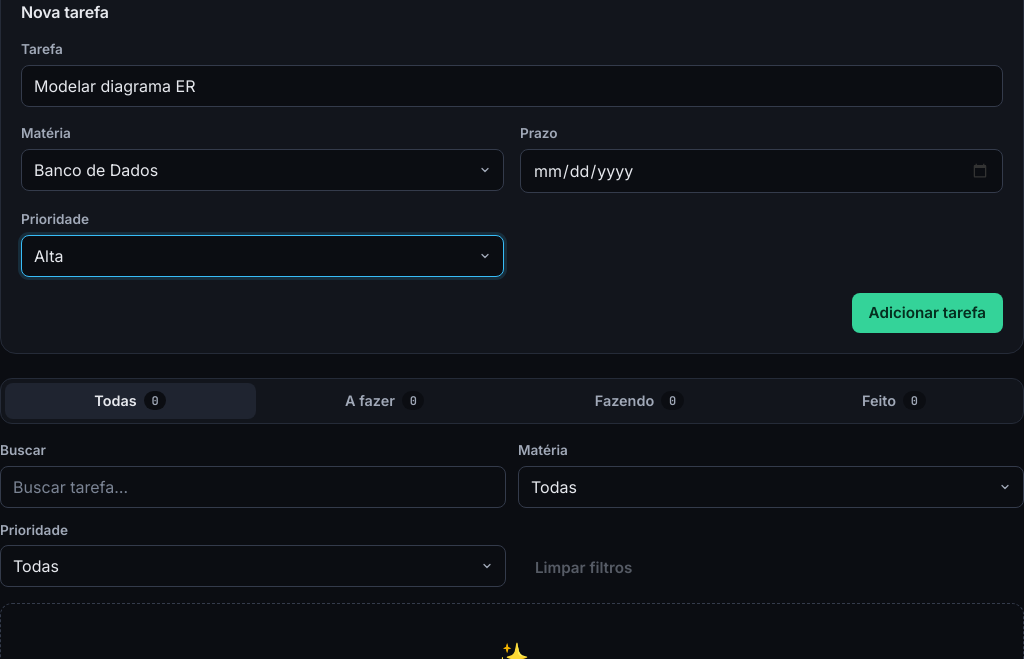
Test: TasksView (CRUD e filtros de tarefas) › cria tarefas, muda status, filtra e exclui
Earlier steps of the test are not shown.
Later steps or results of the test are not shown.
Click the button "Adicionar tarefa" at (927, 312), box [852,292,1003,332]
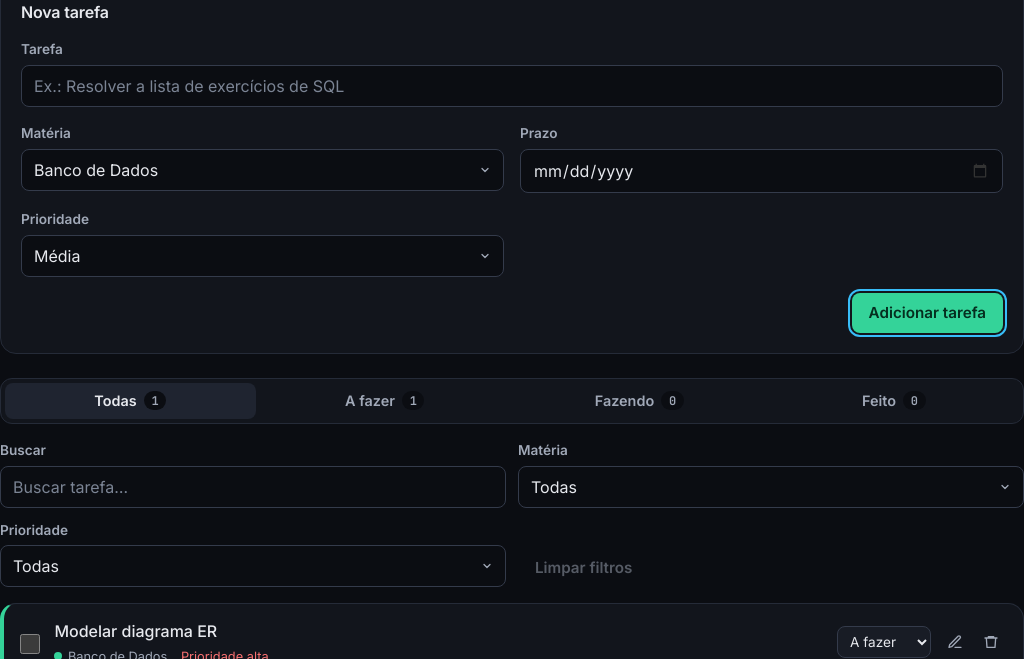
Type "Configurar roteador" into the field labelled "Tarefa" at (512, 86), box [21,64,1003,106]
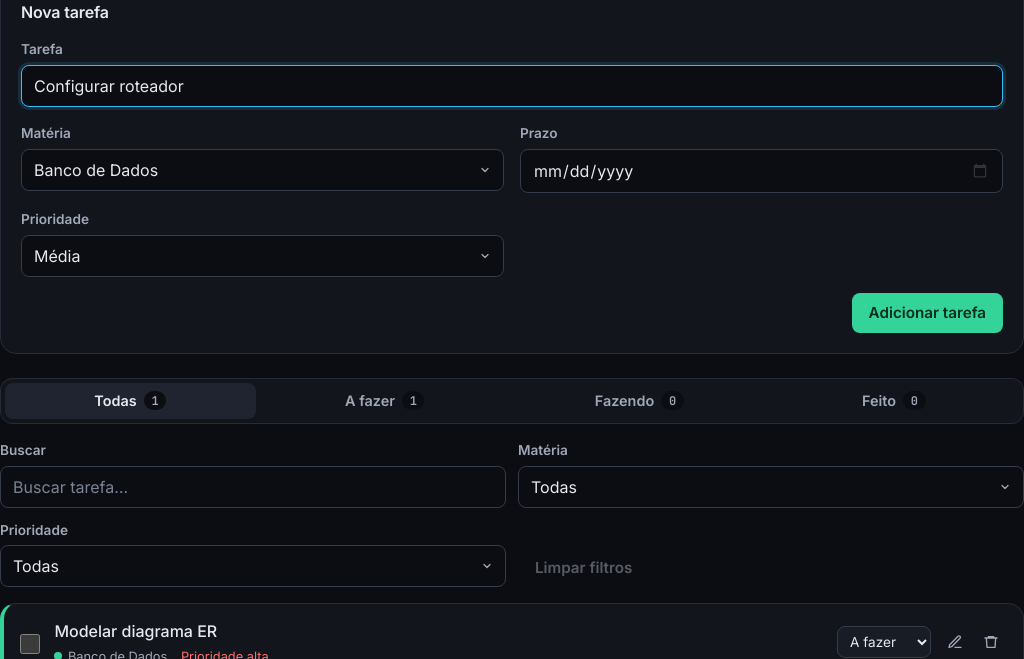
Select "Redes" in the dropdown labelled "Matéria" below "Nova tarefa" at (262, 170), box [21,148,504,190]
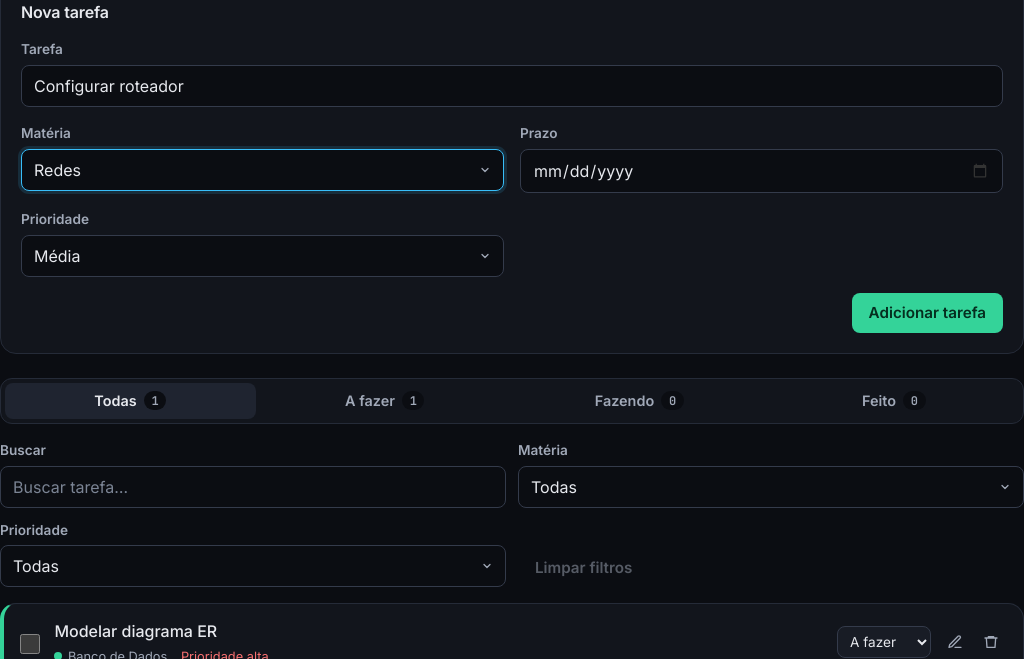
Click the button "Adicionar tarefa" at (927, 312), box [852,292,1003,332]
(page scrolled)
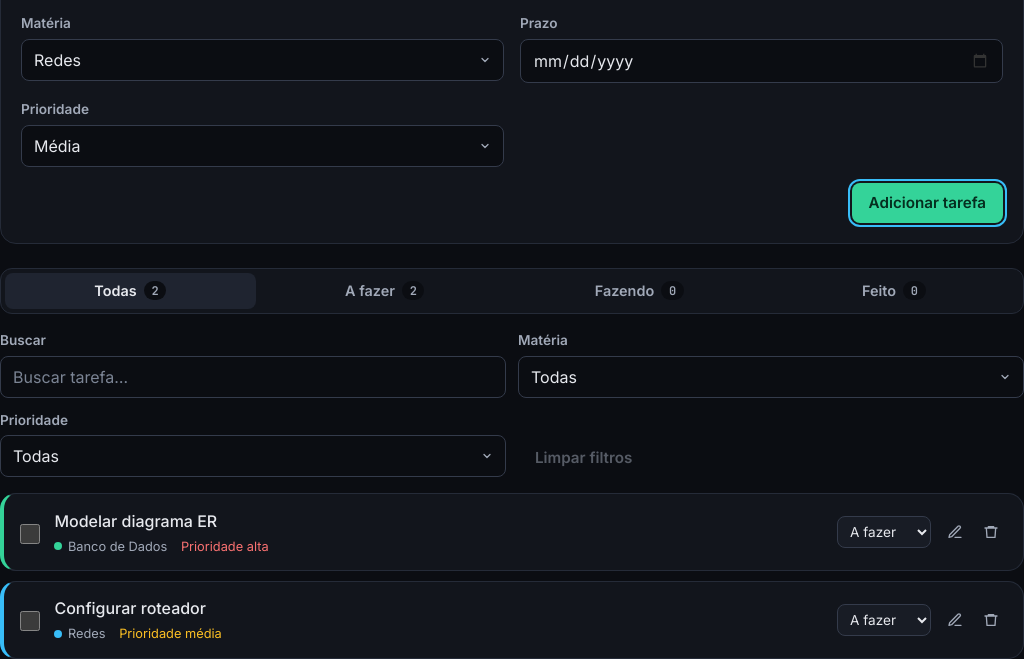
Expected: the number of list items is 2, [0,494,1023,572]; [0,581,1023,658]
Click the checkbox named "Concluir \"Configurar roteador\"" at (30, 621), box [20,611,40,631]
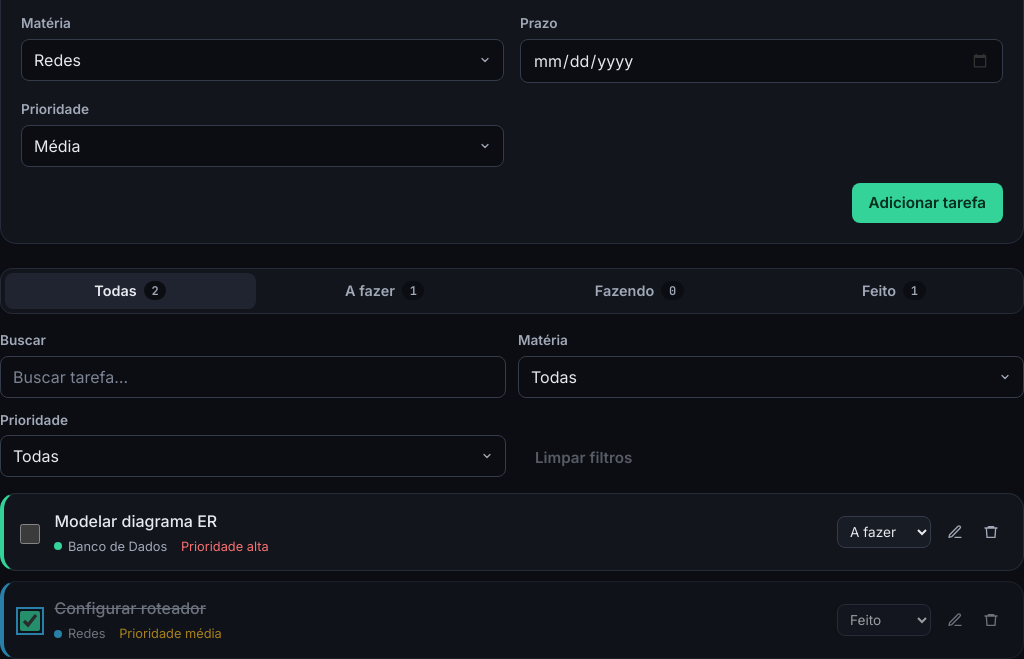
Click the button "Feito 1" at (894, 290), box [768,272,1019,308]
(page scrolled)
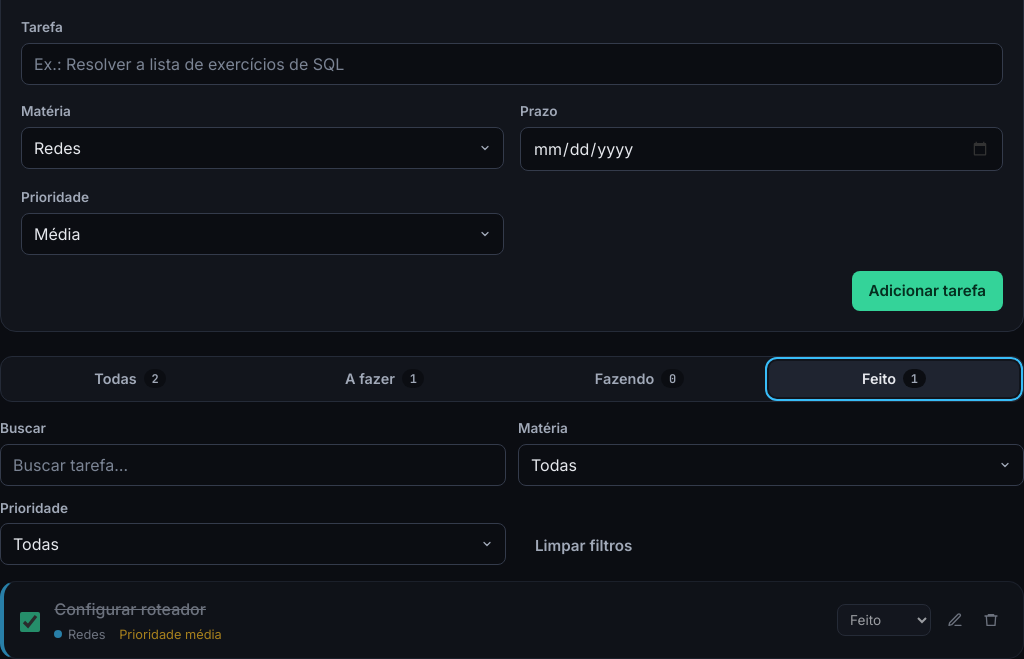
Expected: the text "Configurar roteador" is shown, [54,599,206,619]
Expected: the number of list items is 1, [0,582,1023,658]
